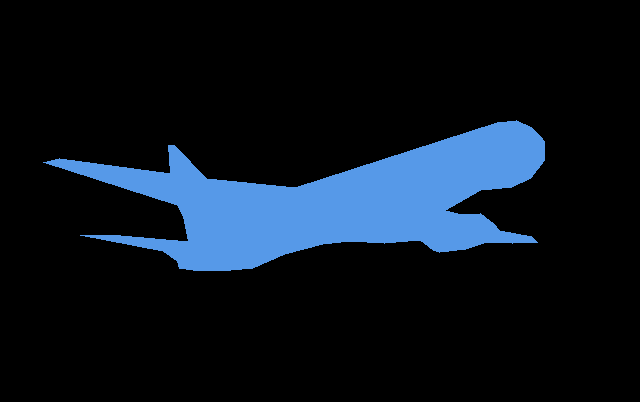Airplane: (43, 120, 544, 270)
